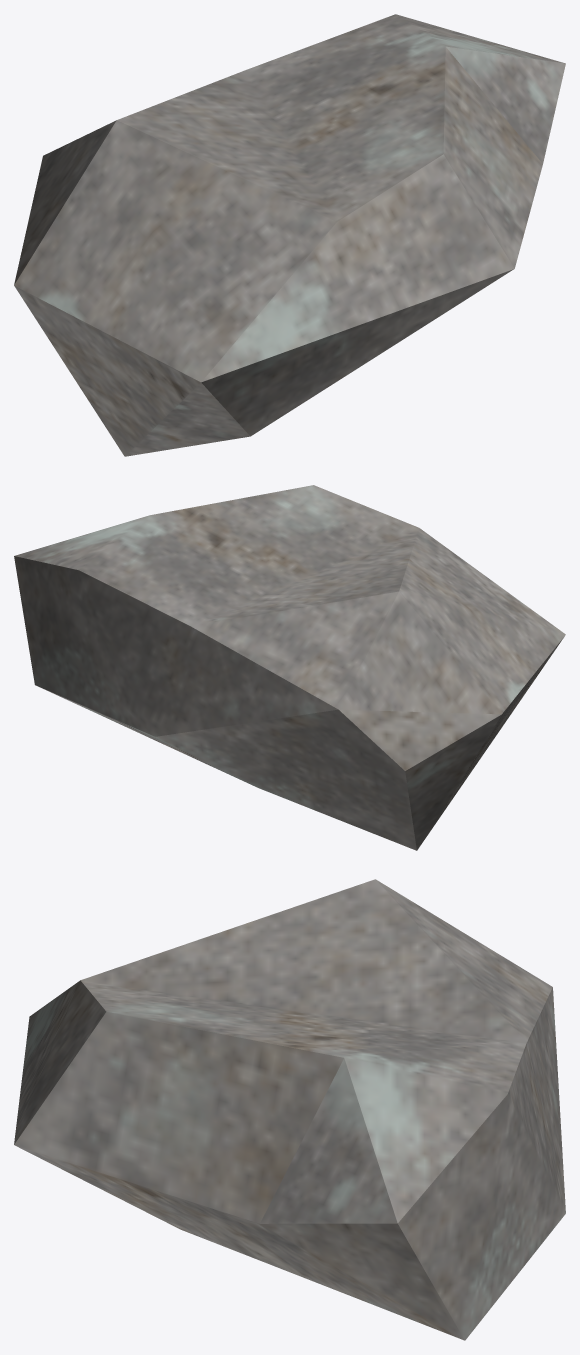
Rendered from SM_Stone_4.fbx.
The picture shows the model from 3 angles, top to bottom: view 1: azimuth 30°, elevation 25°; view 2: azimuth 150°, elevation 25°; view 3: azimuth 270°, elevation 25°; orthographic projection. The views are drawn at different scales.
Parts seen in each view (by area): view 1: SM_Stone_4_LOD0; view 2: SM_Stone_4_LOD0; view 3: SM_Stone_4_LOD0.
Boxes of the visible parts, x1,y1,x2,y2 form: SM_Stone_4_LOD0: (14, 14, 565, 456); SM_Stone_4_LOD0: (14, 485, 565, 850); SM_Stone_4_LOD0: (14, 879, 565, 1340).
Bounding box in the file's own units: 41.25 × 28.58 × 22.74.
